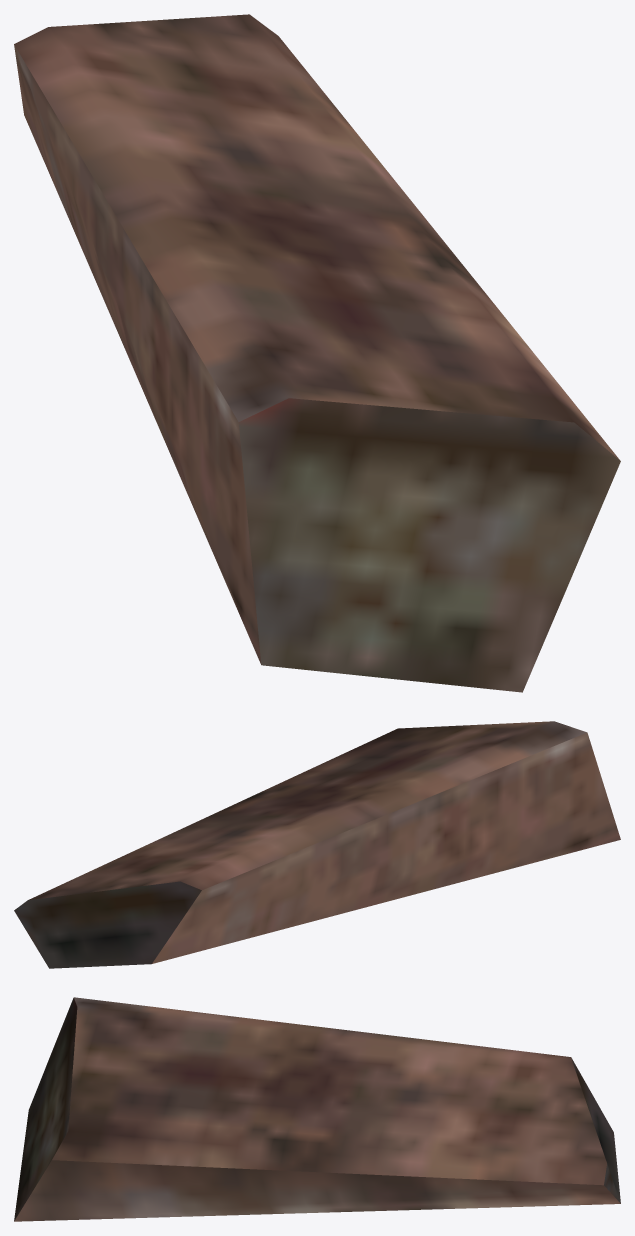
File: debris_tradefed_hulk_radial_s03_l3.fbx
The picture shows the model from 3 angles, top to bottom: view 1: azimuth 30°, elevation 25°; view 2: azimuth 150°, elevation 25°; view 3: azimuth 270°, elevation 25°; orthographic projection. The views are drawn at different scales.
Parts seen in each view (by area): view 1: mesh_node; view 2: mesh_node; view 3: mesh_node.
Boxes of the visible parts, bbox=[...] form: mesh_node: bbox=[14, 14, 620, 692]; mesh_node: bbox=[14, 721, 620, 968]; mesh_node: bbox=[14, 997, 620, 1221].
Size of the model in its own units: 1.58 by 0.8451 by 2.8.
1 material, 1 textured.
